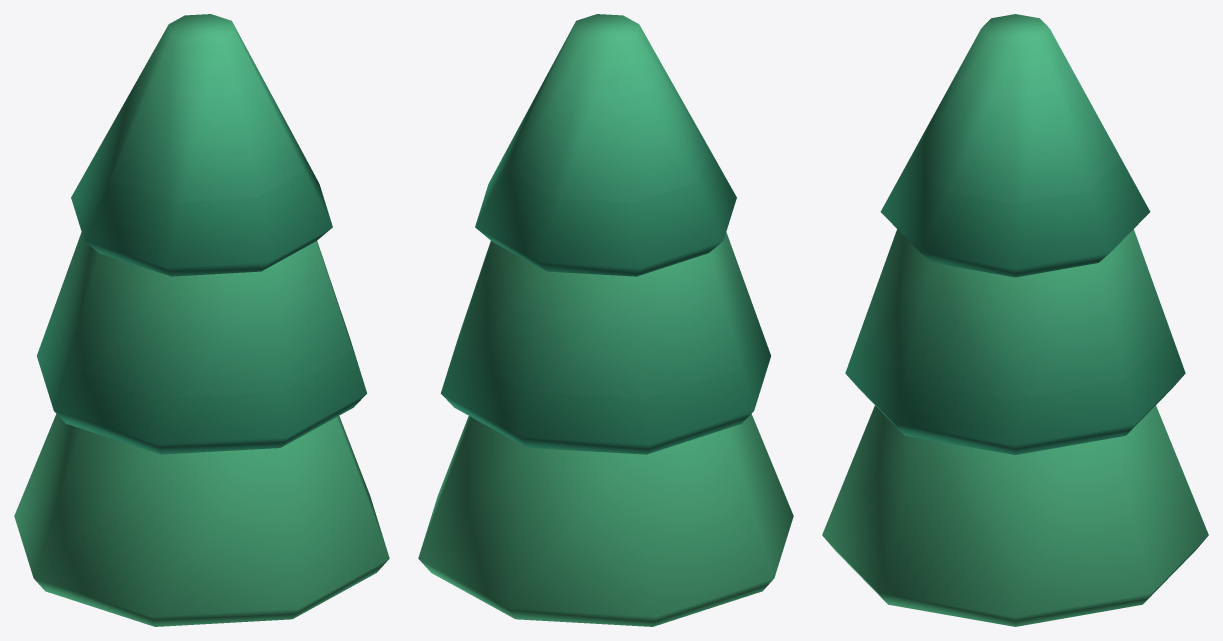
File: tree-pine.glb
3 renders of one model, left to right at view 1: azimuth 30°, elevation 25°; view 2: azimuth 150°, elevation 25°; view 3: azimuth 270°, elevation 25°, orthographic.
Visible parts, largest first — view 1: tree-pine; view 2: tree-pine; view 3: tree-pine.
Boxes of the visible parts, box(x1,y1,x2,y2) form: tree-pine: box(14, 14, 389, 626); tree-pine: box(418, 14, 793, 626); tree-pine: box(822, 14, 1208, 626).
Bounding box in the file's own units: 0.5576 × 0.8307 × 0.5576.
1 material, 1 textured.
